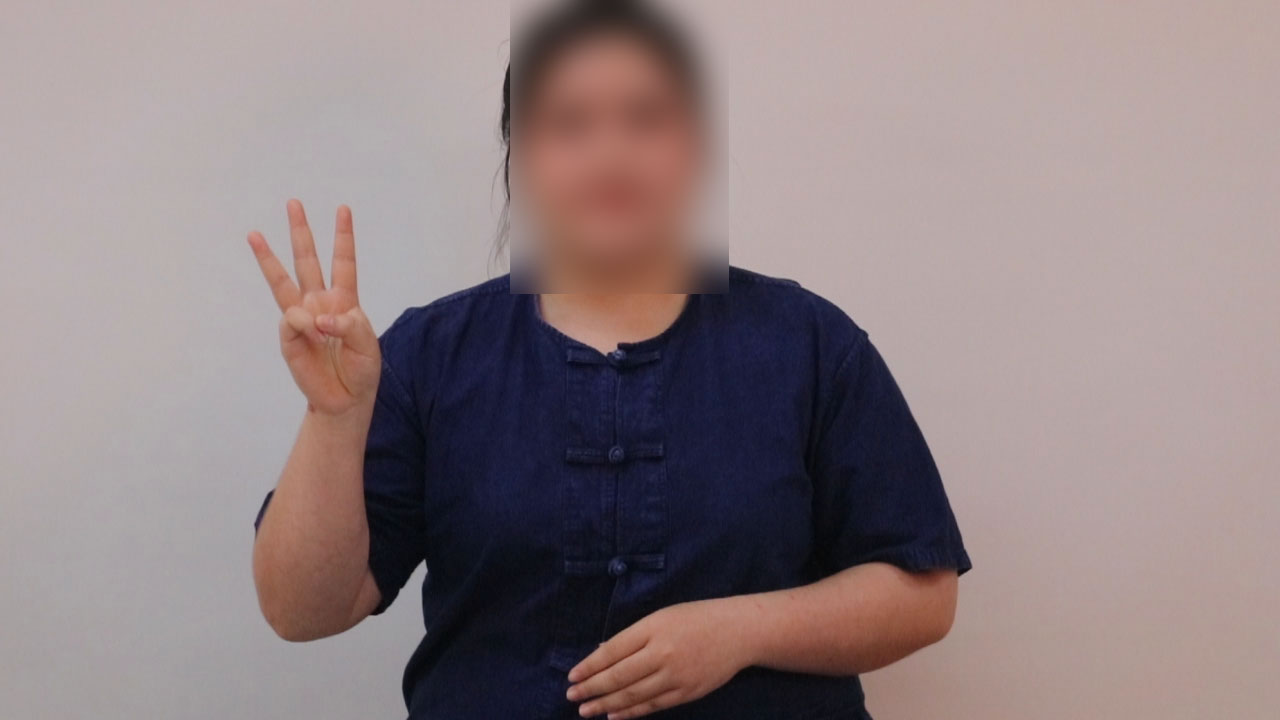wor: (238, 187, 387, 421)
